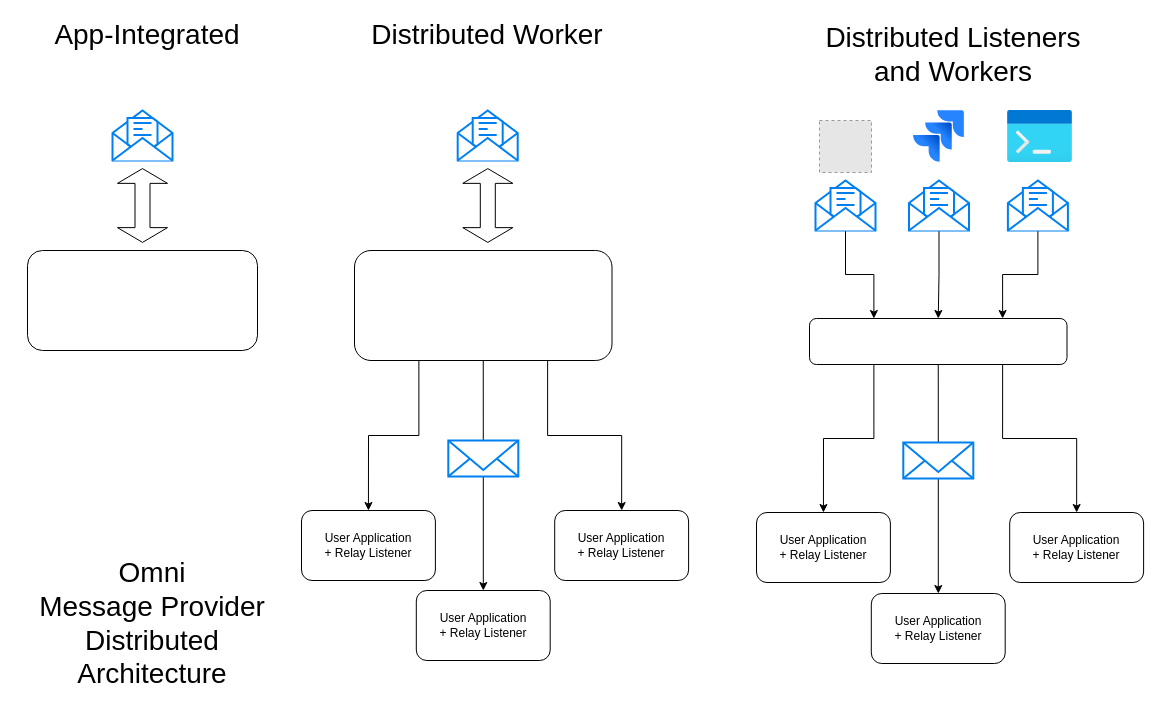
Image size: 1161x707. Some labels were removed from this diagram. Grey dashed boxes stand in for pictures. The shapes that lost their labels are listed below. From the top down, each one's centre as x and y in pixels, then its label:
(142,300): Single Instance Listeners + User App
(483,305): Client Listeners Discord | Slack | Jira | HTTP | SMS + Relay
(937,341): Relay
